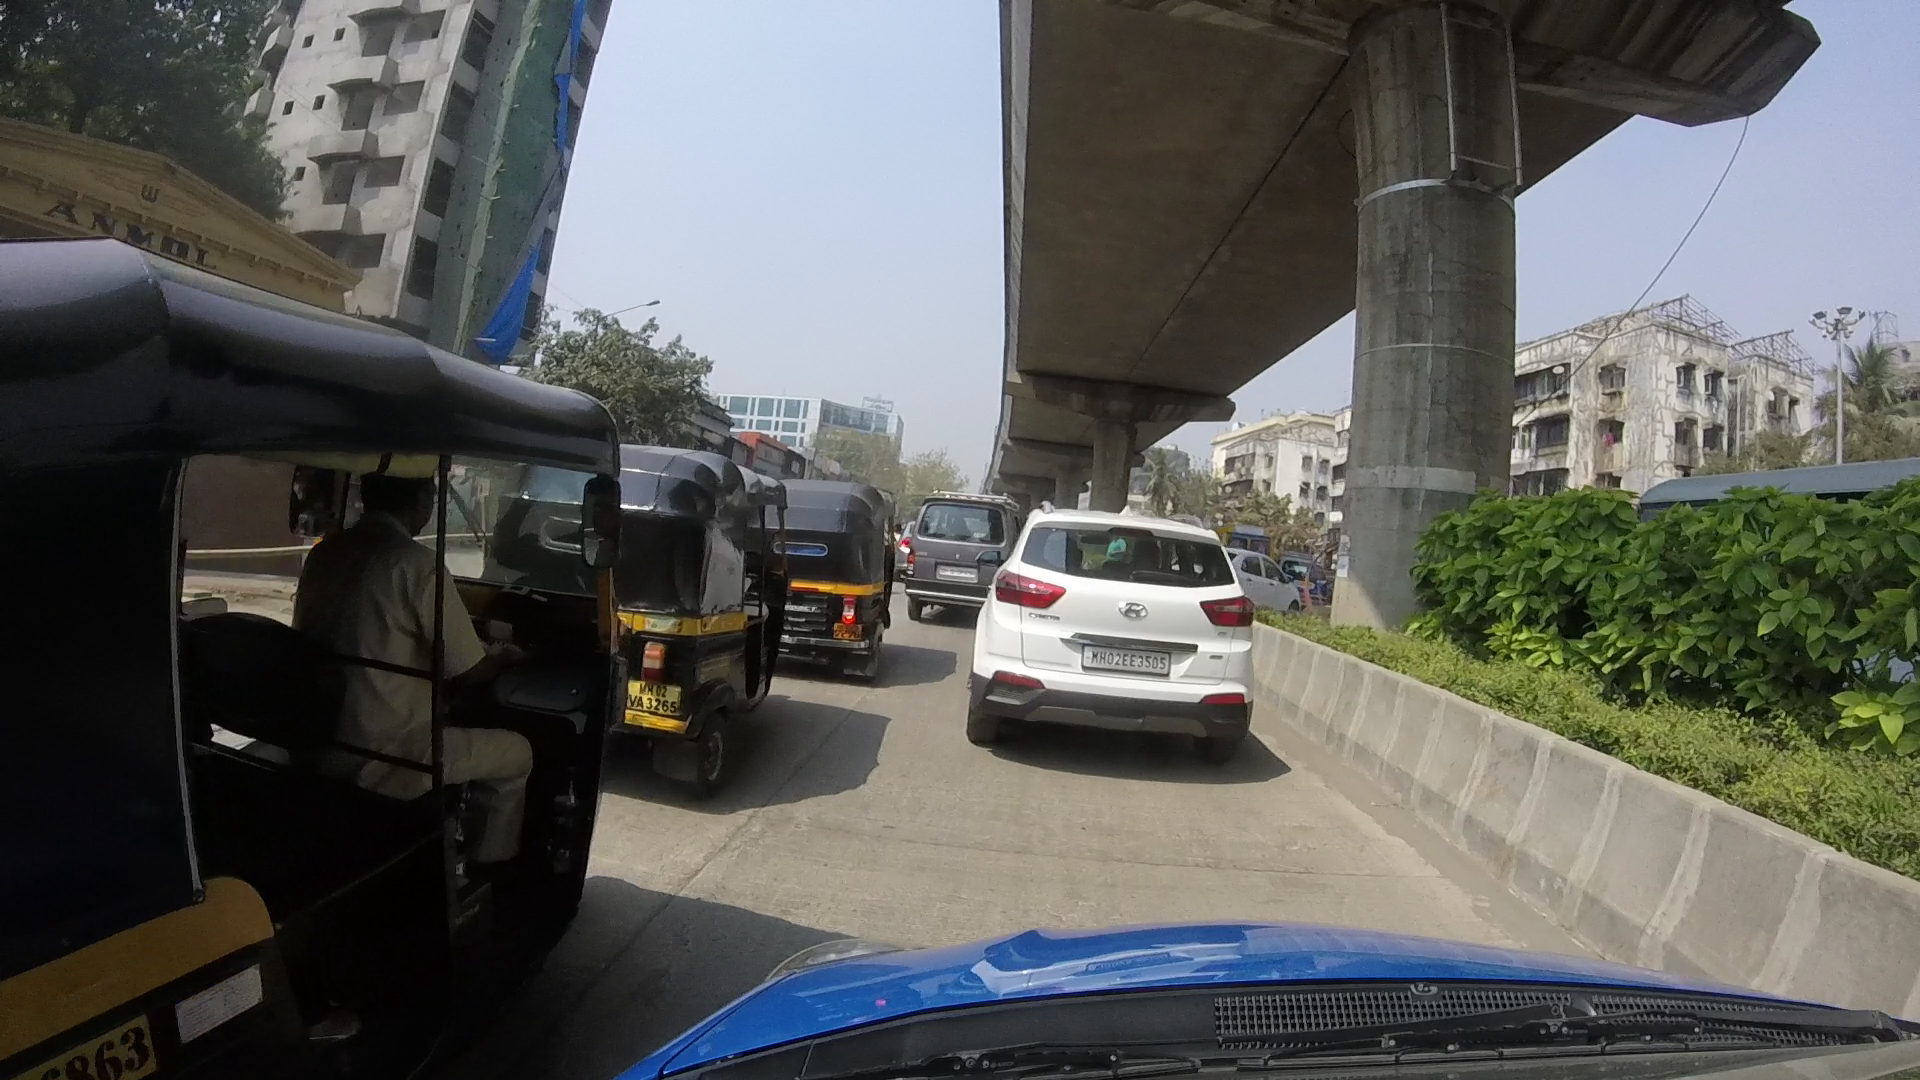car: (963, 487, 1258, 748), (894, 485, 1017, 607)
rickshaw: (28, 247, 611, 1062), (603, 458, 787, 781), (764, 480, 890, 669)
